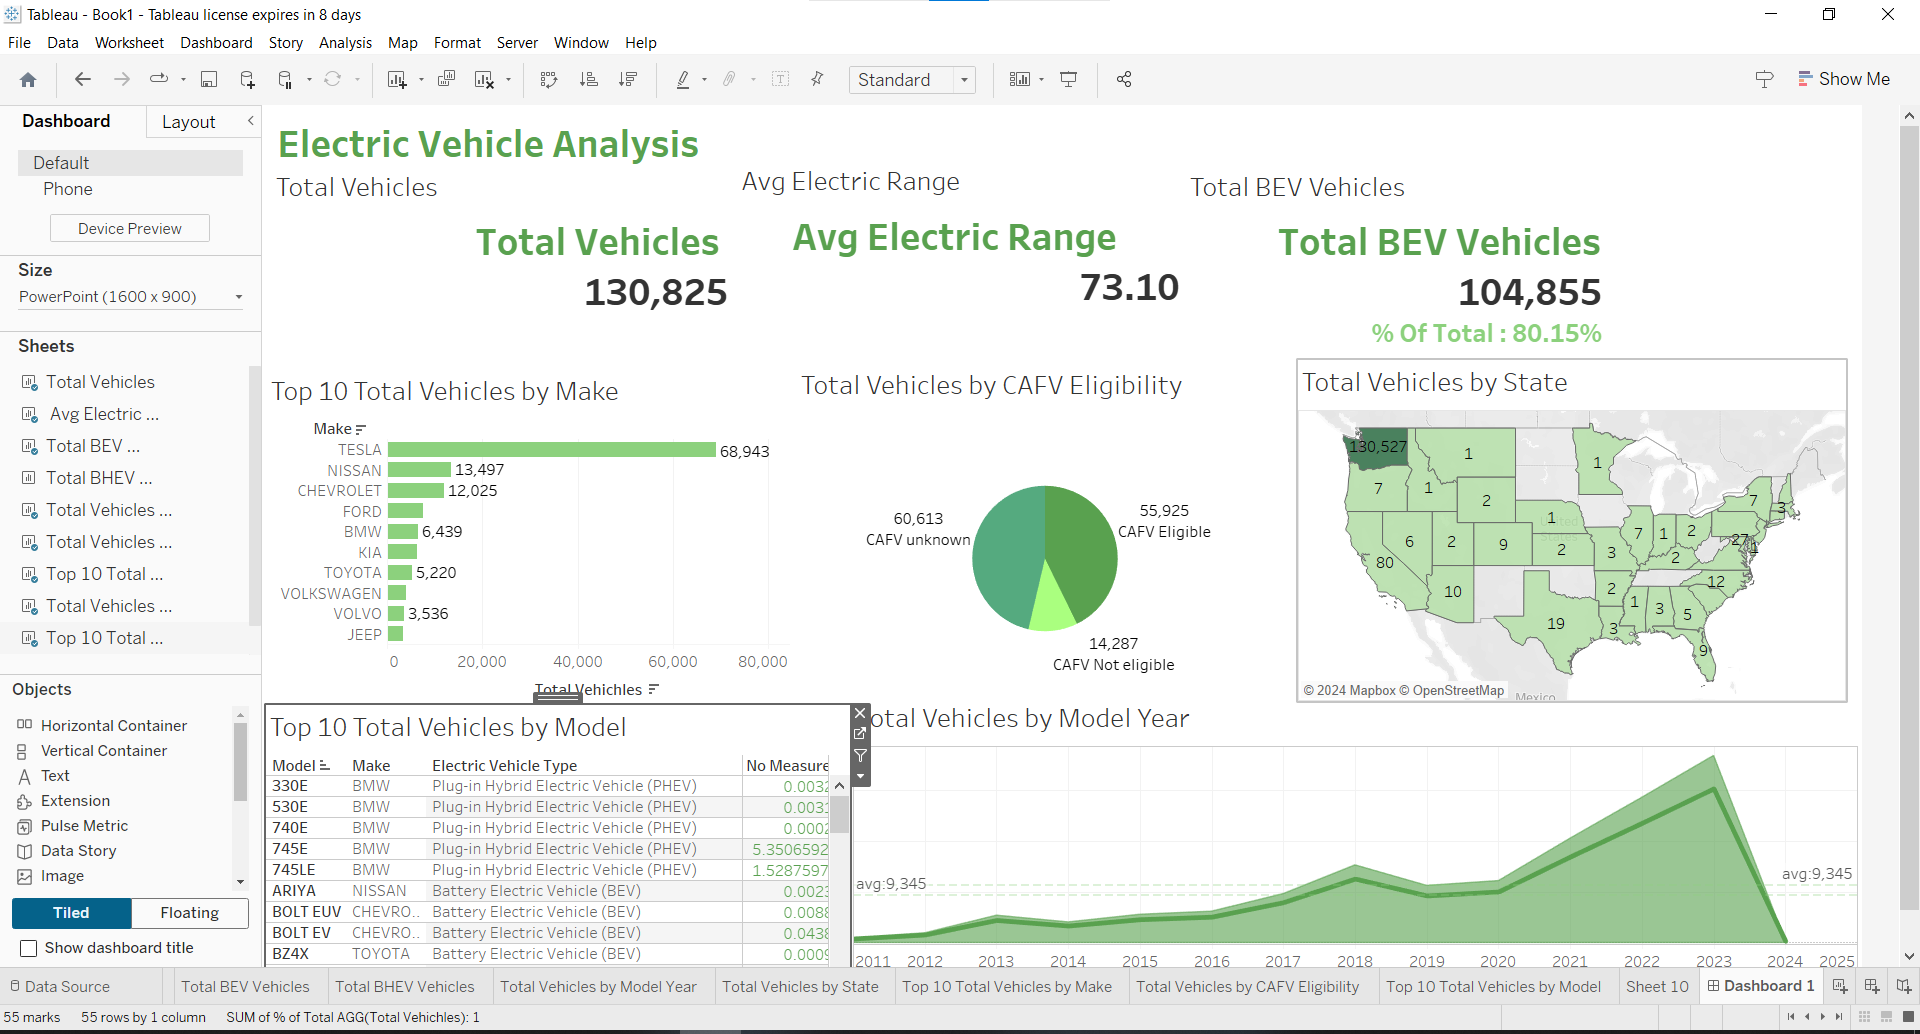

This screenshot's page, from the dashboard's own definition file:
{"tool":"tableau","page":{"name":"Dashboard 1","canvas":[1600,900],"ordinal":0},"visuals":[{"type":"title","box":[8,8,1584,58]},{"type":"worksheet","title":" Avg Electric Range","mark":"Automatic","box":[470,54,451,154]},{"type":"worksheet","title":"Total Vehicles","mark":"Automatic","box":[10,60,460,154]},{"type":"worksheet","title":"Total BEV Vehicles ","mark":"Automatic","box":[924,60,443,196]},{"type":"blank","box":[8,66,1584,355]},{"type":"worksheet","title":"Total Vehicles by State","mark":"Automatic","box":[1036,255,548,341]},{"type":"worksheet","title":"Total Vehicles by CAFV Eligibility","mark":"Pie","box":[535,258,496,341]},{"type":"worksheet","title":"Top 10 Total Vehicles by Make","mark":"Automatic","rows":["Make"],"cols":["Calculation_402227769648648192"],"box":[5,264,523,338]},{"type":"worksheet","title":"Total Vehicles by Model Year","mark":"Line","rows":["Calculation_402227769648648192","Calculation_402227769648648192"],"cols":["Model Year"],"box":[591,591,1005,312]},{"type":"worksheet","title":"Top 10 Total Vehicles by Model","mark":"Automatic","rows":["Model","Make","Electric Vehicle Type"],"box":[4,600,584,302]}]}

Visuals, with their boxes on the page's 1600x900 design canvas (x1, y1, x2, y2). These are canvas units, not pixel positions in the 1920x1034 screenshot, which may show the page scaled, cropped or inside an application window:
title: {"left": 8, "top": 8, "right": 1592, "bottom": 66}
" Avg Electric Range" worksheet: {"left": 470, "top": 54, "right": 921, "bottom": 208}
"Total Vehicles" worksheet: {"left": 10, "top": 60, "right": 470, "bottom": 214}
"Total BEV Vehicles " worksheet: {"left": 924, "top": 60, "right": 1367, "bottom": 256}
blank: {"left": 8, "top": 66, "right": 1592, "bottom": 421}
"Total Vehicles by State" worksheet: {"left": 1036, "top": 255, "right": 1584, "bottom": 596}
"Total Vehicles by CAFV Eligibility" worksheet (Pie marks): {"left": 535, "top": 258, "right": 1031, "bottom": 599}
"Top 10 Total Vehicles by Make" worksheet: {"left": 5, "top": 264, "right": 528, "bottom": 602}
"Total Vehicles by Model Year" worksheet (Line marks): {"left": 591, "top": 591, "right": 1596, "bottom": 903}
"Top 10 Total Vehicles by Model" worksheet: {"left": 4, "top": 600, "right": 588, "bottom": 902}
